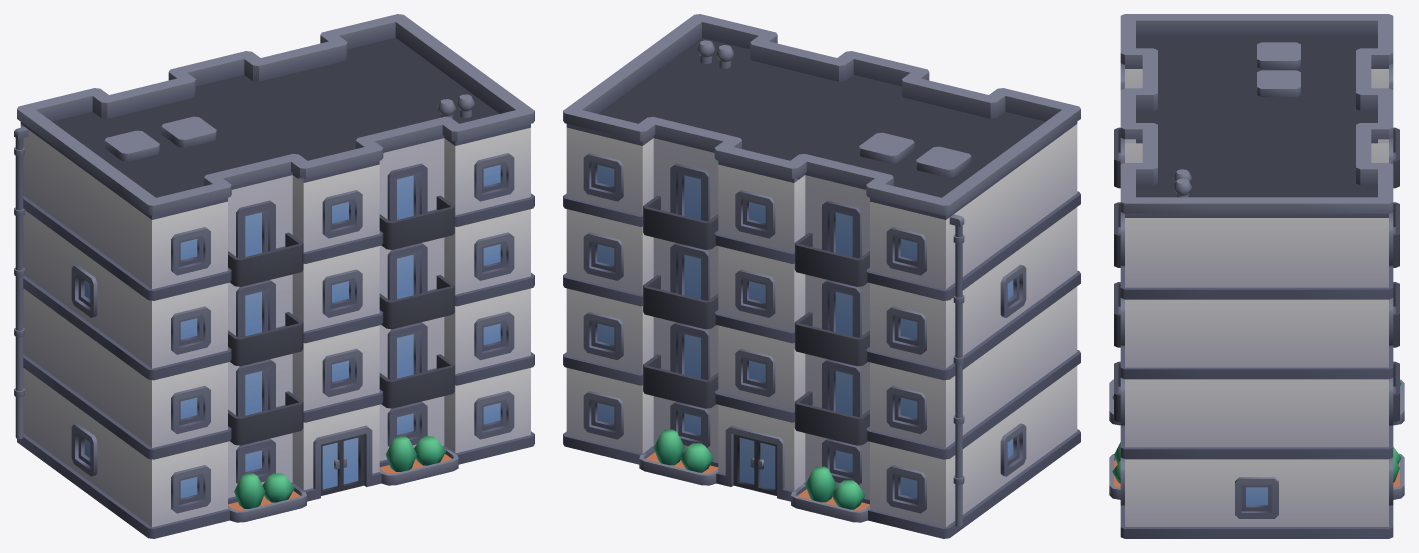
3 renders of one model, left to right at view 1: azimuth 30°, elevation 25°; view 2: azimuth 150°, elevation 25°; view 3: azimuth 270°, elevation 25°, orthographic.
Visible parts, largest first — view 1: building-j; view 2: building-j; view 3: building-j.
Part boxes in pixels (x1,y1,x2,y2): building-j: [14, 14, 534, 538]; building-j: [563, 14, 1080, 538]; building-j: [1109, 14, 1404, 538].
Size of the model in its own units: 19.34 by 15.71 by 12.44.
Materials: 1 (1 with a texture image).
